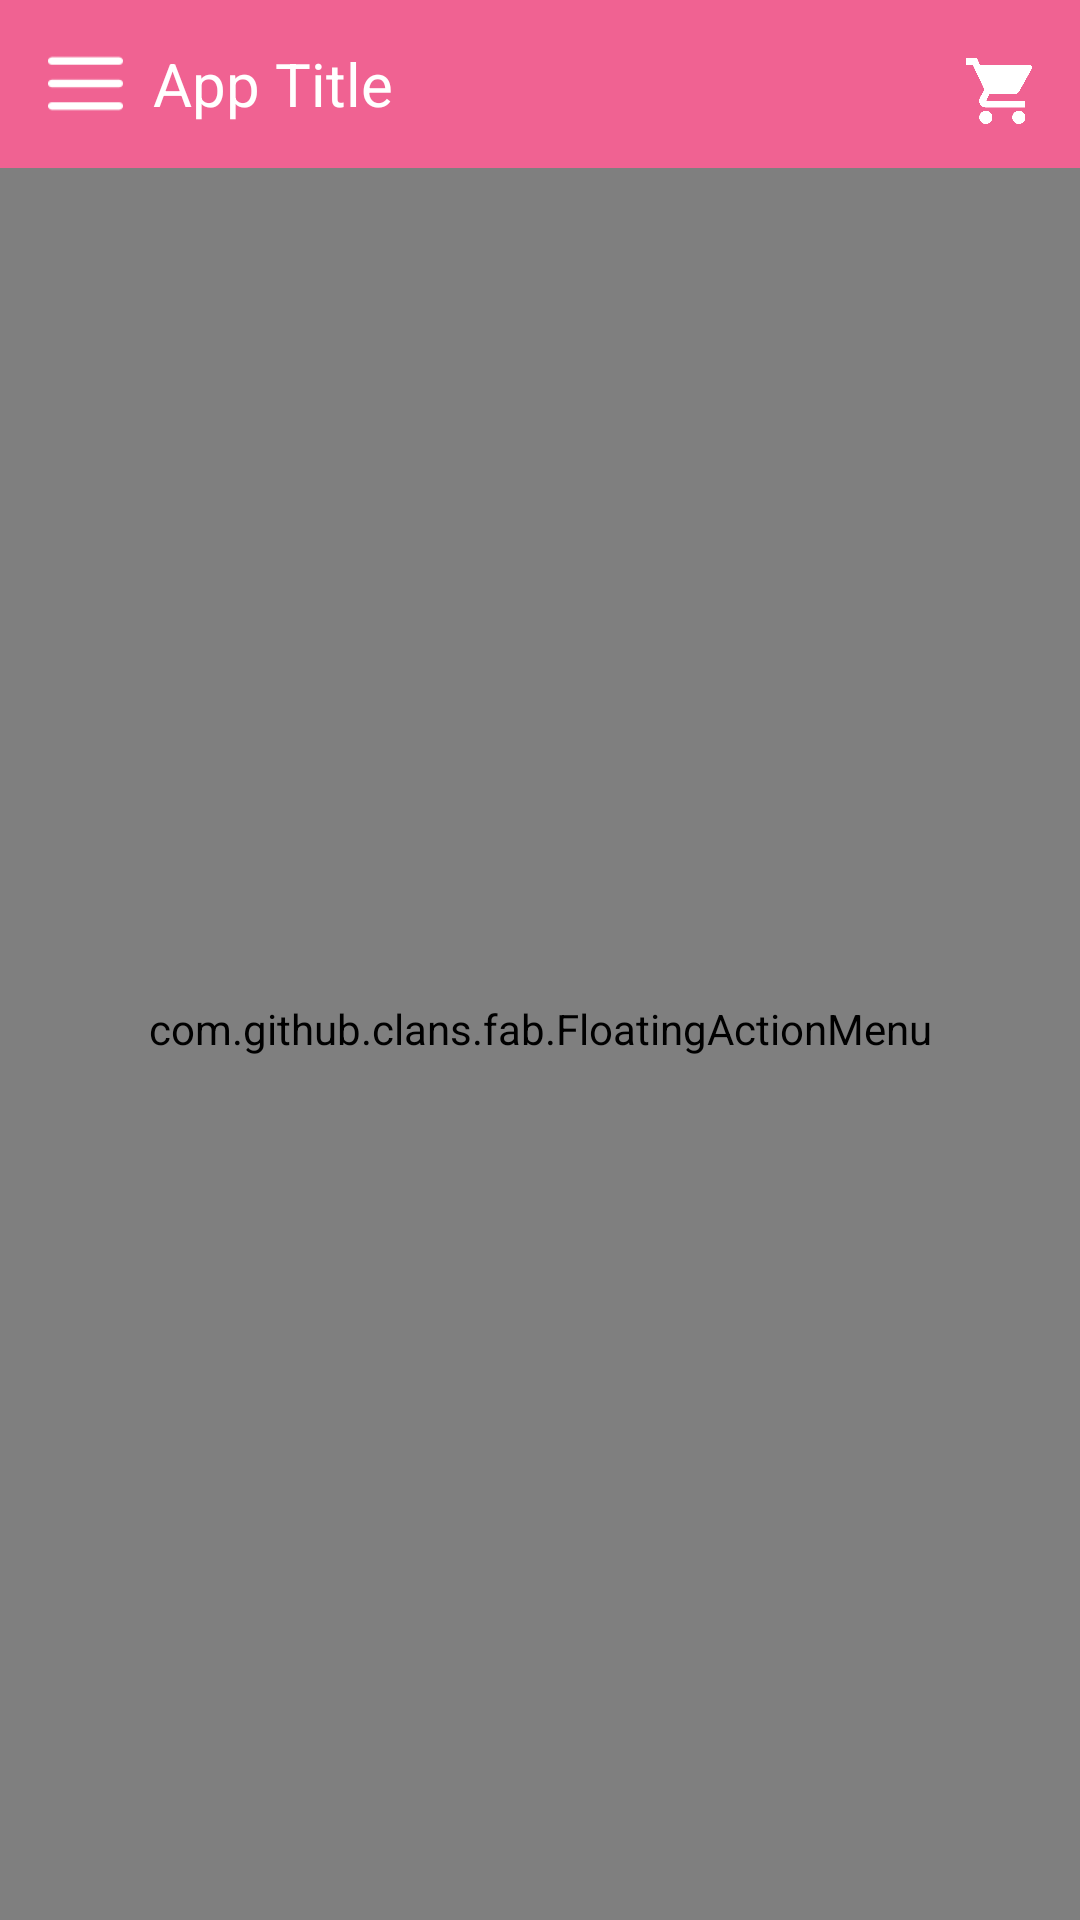

Named icons in this screenshot (1080 × 1920) and their centers, (x,y):
cart: (999,91)
